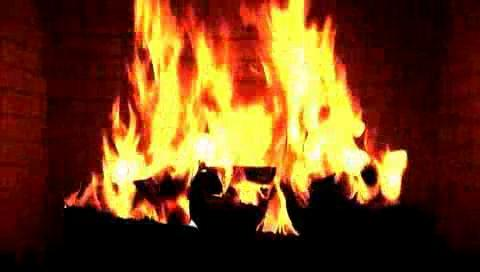fire: (80, 3, 404, 236)
